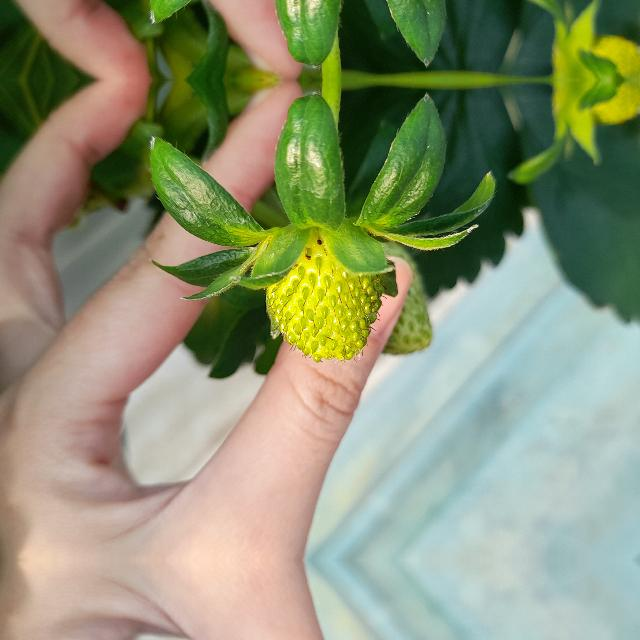Health_25: (264, 226, 386, 364)
